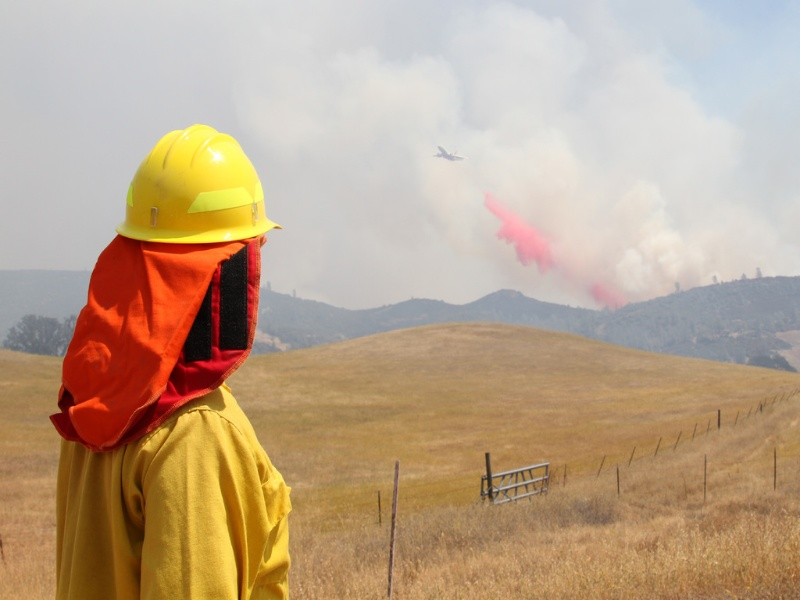Baret: (118, 124, 284, 242)
